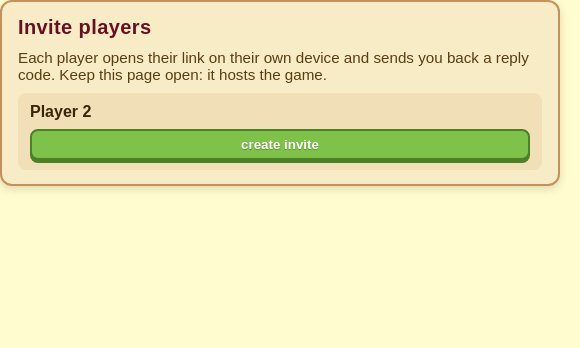
it: PeerInvites › keeps the invite when a wrong reply code is pasted
Click the button "create invite" at (280, 144), box [30,129,530,160]
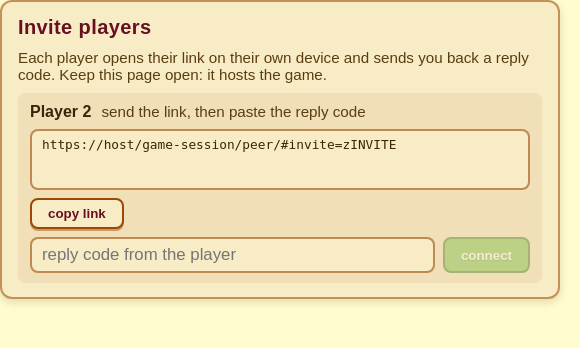
Type "zWRONG" into the field labelled "reply code" at (232, 255), box [30,237,435,273]
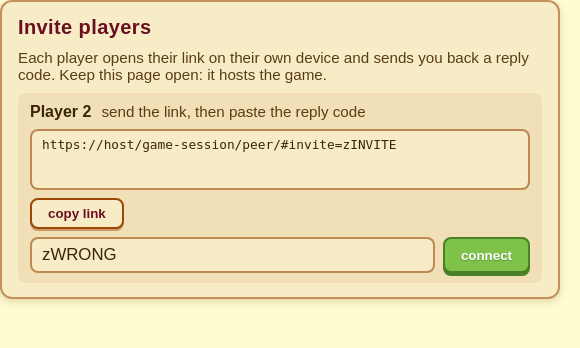
Click the button "connect" at (486, 255), box [443,237,530,273]
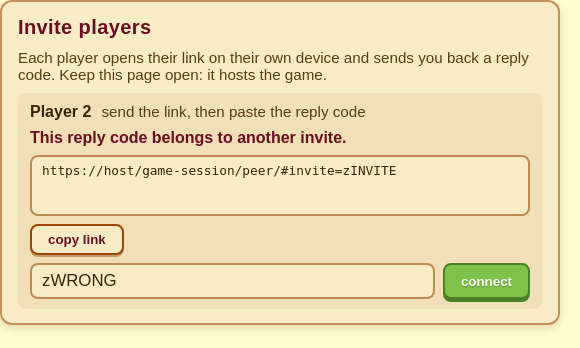
Now the text box named "link" holds "https://host/game-session/peer/#invite=zINVITE", box [30,155,530,216]
Now the text "This reply code belongs to another invite." is shown, box [30,129,346,146]
Replace the text in the field named "reply code" with "zRIGHT" at (232, 281), box [30,263,435,299]
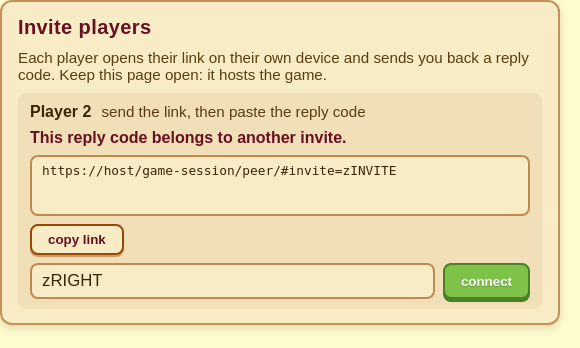
Click the button "connect" at (486, 281), box [443,263,530,299]
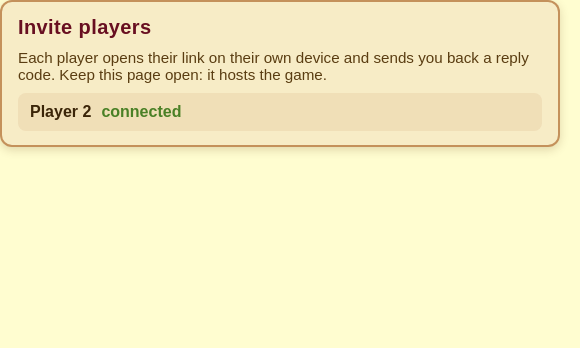
Now the text "connected" is shown, box [101,103,181,121]
